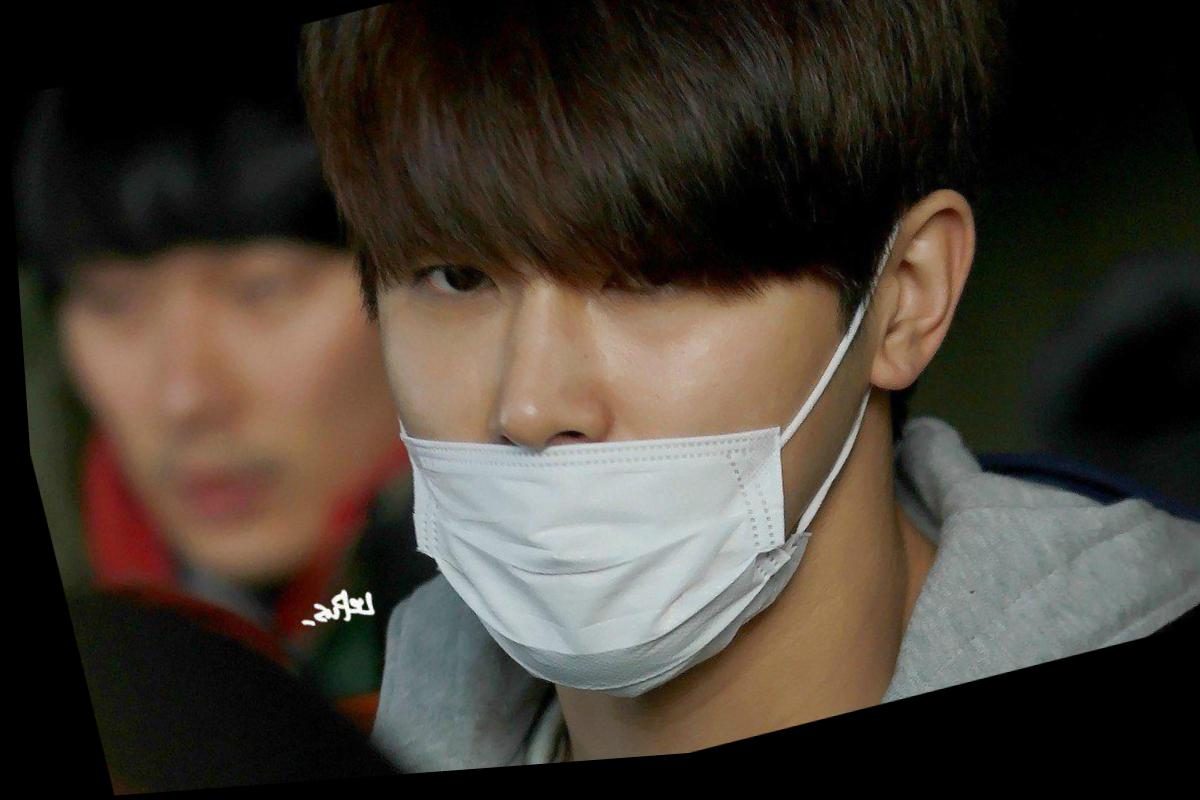NONE: (47, 200, 420, 619)
WRONG: (332, 102, 892, 754)
